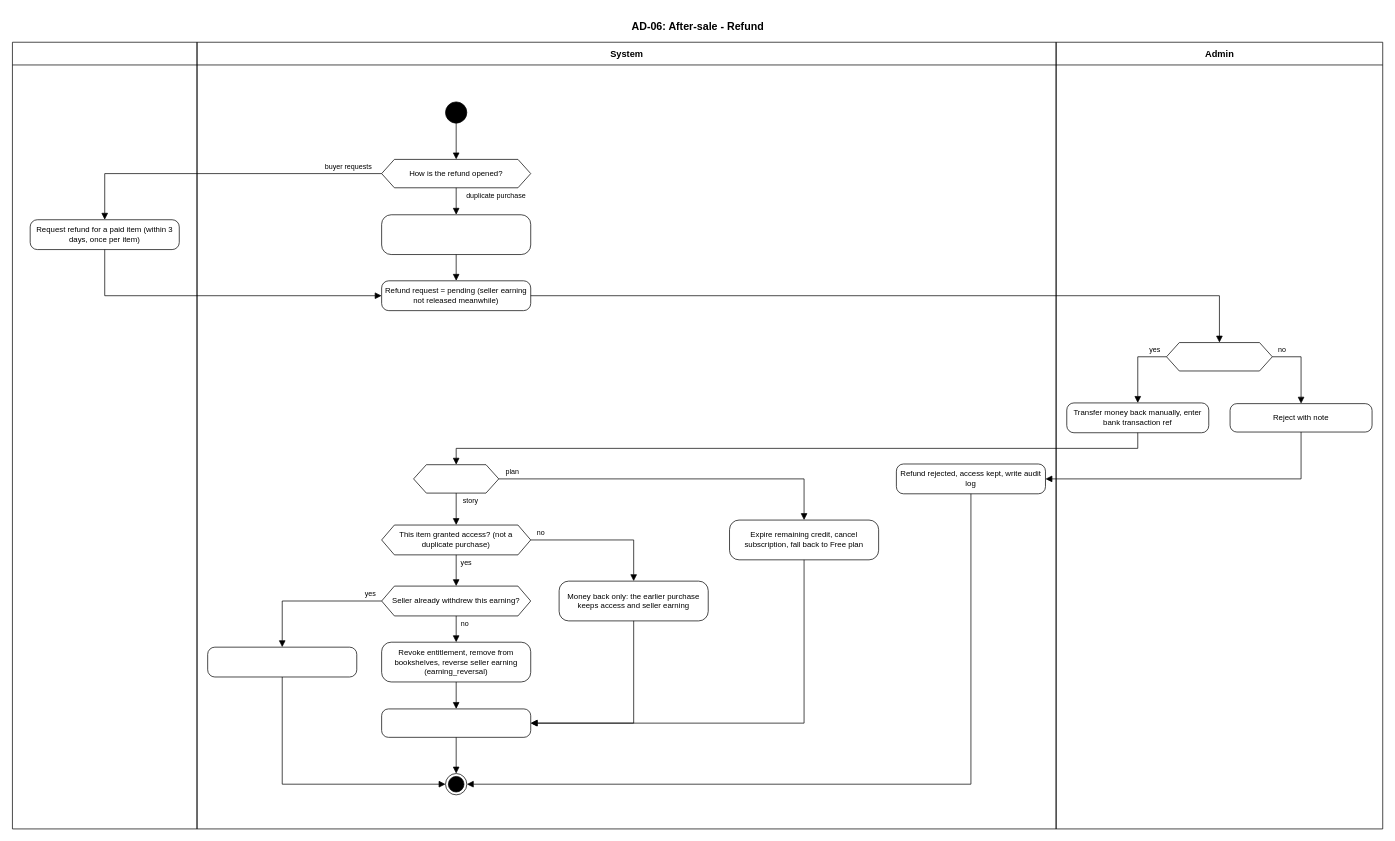
Image size: 1395x841. Some labels were removed from this diagram. The shapes that lost their labels are listed below. From the top down, each one's box as (x1, y1, x2, y2) in pixels, then its label:
(381, 214, 531, 255): Duplicate purchase detected: open refund request automatically
(1166, 342, 1272, 371): Approve refund?
(12, 42, 197, 829): Buyer
(413, 464, 499, 493): Item type?
(207, 646, 357, 677): 422: refund stays pending, admin settles with the seller manually
(381, 708, 531, 737): Item refunded, write audit log
